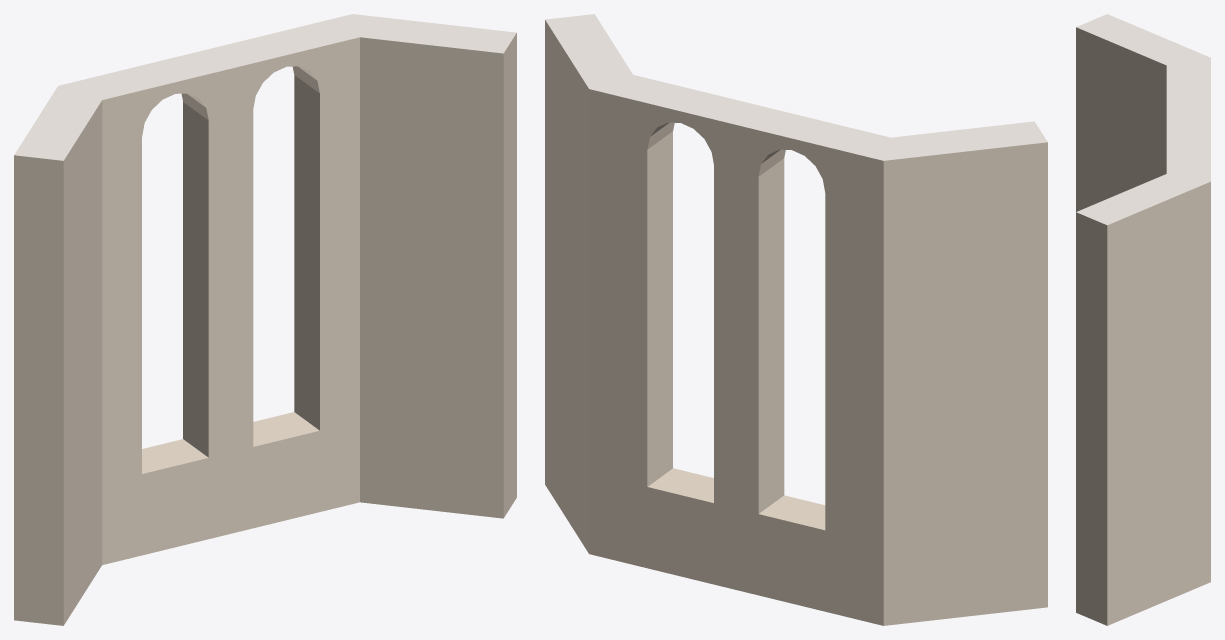
The picture shows the model from 3 angles, left to right: view 1: azimuth 30°, elevation 25°; view 2: azimuth 150°, elevation 25°; view 3: azimuth 270°, elevation 25°; orthographic projection. The views are drawn at different scales.
Visible parts, largest first — view 1: object1.011; view 2: object1.011; view 3: object1.011.
Part boxes in pixels (x1,y1,x2,y2): object1.011: (14, 14, 516, 625); object1.011: (545, 14, 1047, 625); object1.011: (1076, 14, 1210, 625).
Bounding box in the file's own units: 2.26 × 2 × 0.6101.
